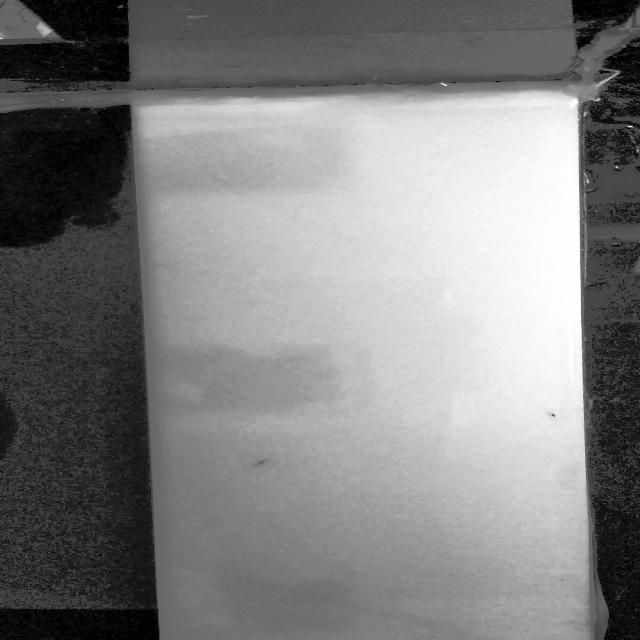shrimp: (251, 456, 284, 470), (550, 410, 566, 424)
